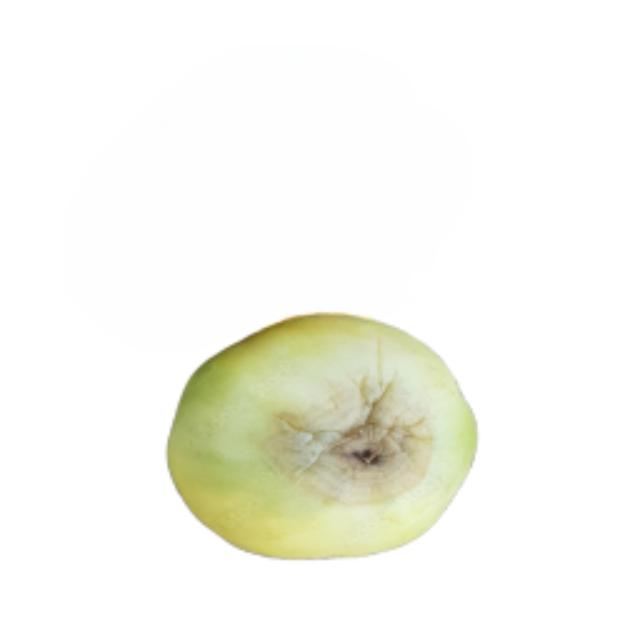defect: (161, 307, 482, 568)
